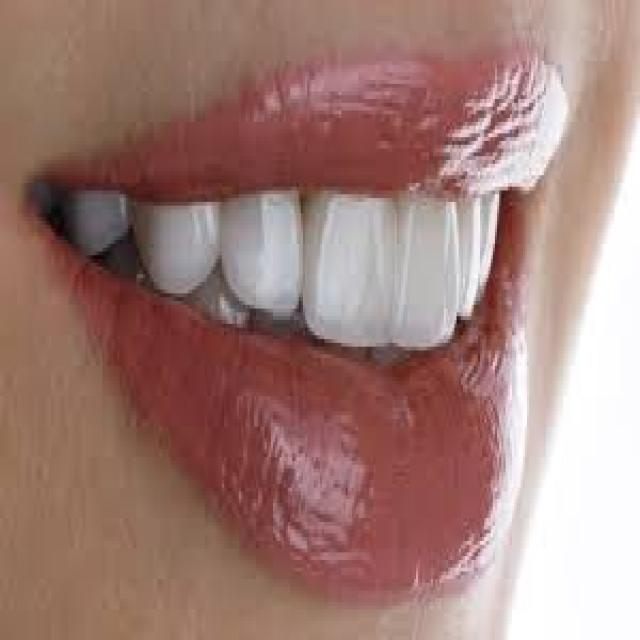tooth: (303, 176, 399, 354), (128, 179, 228, 290), (399, 179, 461, 358), (222, 187, 305, 312), (64, 186, 132, 248), (459, 186, 482, 328)
